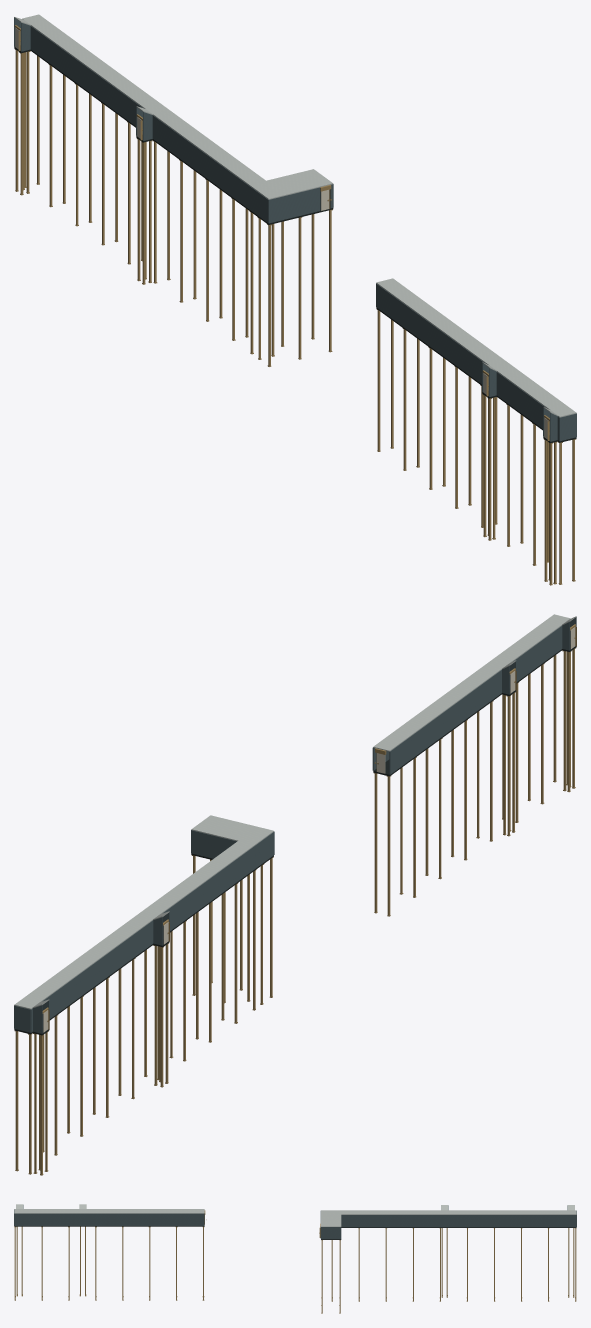
File: D04_STARBOARD_FORWARD_WORK_BRANCHES_r002.glb
3 views of the same model, one above another, from view 1: azimuth 30°, elevation 25°; view 2: azimuth 150°, elevation 25°; view 3: azimuth 270°, elevation 25° (orthographic). The views are drawn at different scales.
Parts seen in each view (by area): view 1: SFW_Roof0, SFW_Roof1, SFW_Wall0_1, SFW_Wall1_10, SFW_Wall0_5, SFW_SouthJoinWest, SFW_Wall1_2; view 2: SFW_Roof0, SFW_Roof1, SFW_Wall1_10, SFW_Wall0_1, SFW_Wall0_5, SFW_Wall1_2, SFW_Wall0_10; view 3: SFW_Wall0_11, SFW_Wall1_8, SFW_Roof0, SFW_Roof1, SFW_Wall0_9, SFW_Floor0, SFW_Floor1.
Part boxes in pixels (x1,y1,x2,y2): SFW_Roof0: [22, 14, 333, 199]; SFW_Roof1: [376, 278, 576, 417]; SFW_Wall0_1: [30, 26, 142, 126]; SFW_Wall1_10: [376, 283, 485, 384]; SFW_Wall0_5: [152, 115, 248, 208]; SFW_SouthJoinWest: [268, 187, 320, 223]; SFW_Wall1_2: [496, 372, 545, 428]; SFW_Roof0: [14, 815, 273, 1009]; SFW_Roof1: [373, 614, 570, 751]; SFW_Wall1_10: [389, 670, 501, 774]; SFW_Wall0_1: [42, 920, 153, 1018]; SFW_Wall0_5: [162, 846, 255, 930]; SFW_Wall1_2: [513, 626, 562, 681]; SFW_Wall0_10: [191, 830, 236, 858]; SFW_Wall0_11: [341, 1215, 576, 1227]; SFW_Wall1_8: [14, 1213, 204, 1225]; SFW_Roof0: [321, 1210, 576, 1226]; SFW_Roof1: [14, 1209, 204, 1213]; SFW_Wall0_9: [321, 1227, 341, 1239]; SFW_Floor0: [321, 1227, 576, 1239]; SFW_Floor1: [14, 1226, 204, 1226].
Size of the model in its own units: 11.27 by 23.78 by 134.
8 materials, 8 textured.
